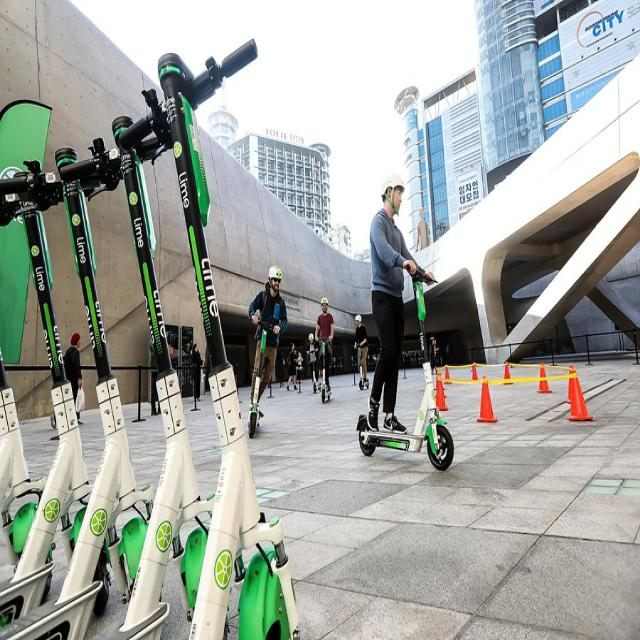helmet: (351, 169, 459, 472), (238, 262, 290, 438), (314, 295, 338, 407), (350, 312, 371, 390), (305, 332, 322, 396)
